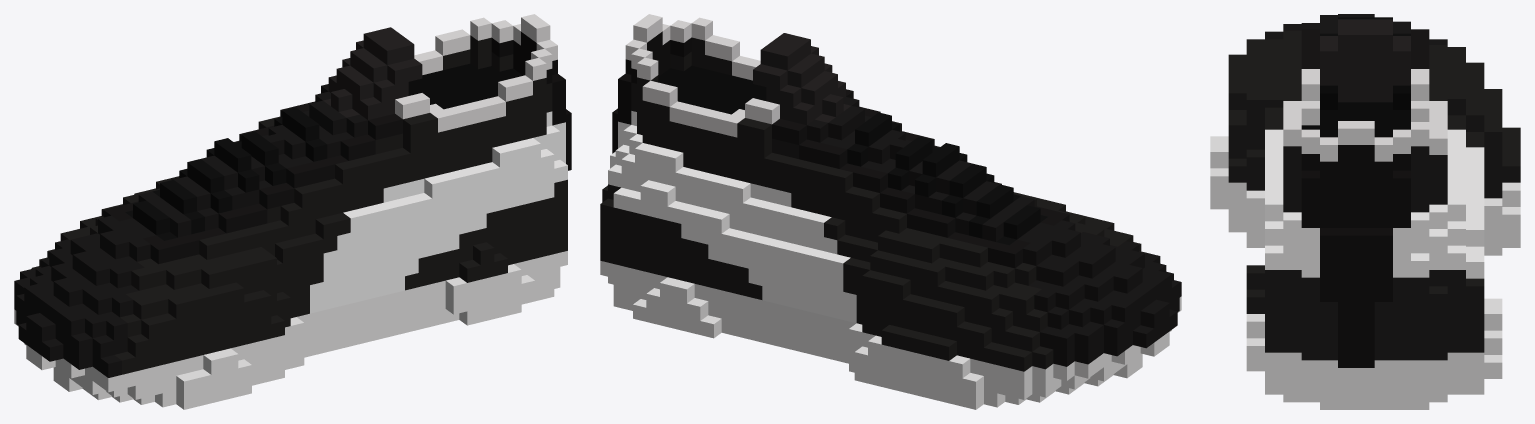
File: Smoked Steam.fbx
3 views of the same model, side by side, from view 1: azimuth 30°, elevation 25°; view 2: azimuth 150°, elevation 25°; view 3: azimuth 270°, elevation 25° (orthographic). The views are drawn at different scales.
Parts seen in each view (by area): view 1: Untitled; view 2: Untitled; view 3: Untitled.
Boxes of the visible parts, box(x1,y1,x2,y2) form: Untitled: box(14, 14, 571, 409); Untitled: box(600, 14, 1181, 409); Untitled: box(1210, 14, 1520, 409).
Bounding box in the file's own units: 390 × 180 × 170.
